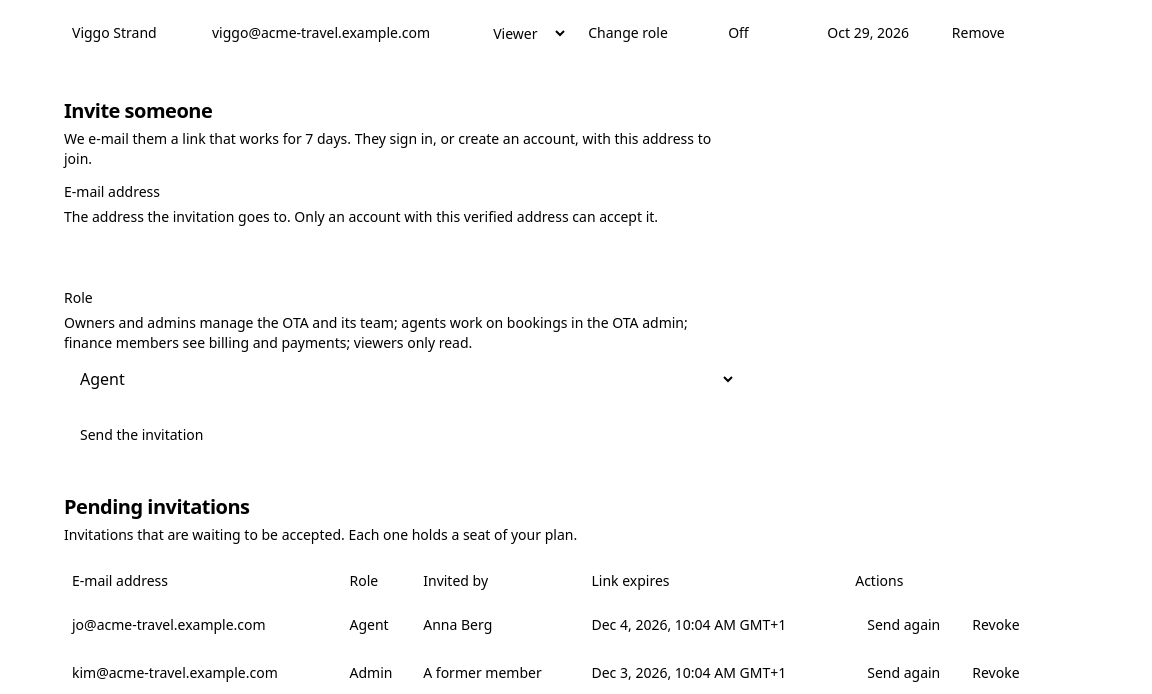
it: /otas/[tenantId]/team › resends an invitation, and explains a revocation of one that is no longer pending
(page scrolled)
Step 1. Click the button "Send again" in the row of "jo@acme-travel.example.com" → (904, 625), box left=855, top=609, right=952, bottom=641
(page scrolled)
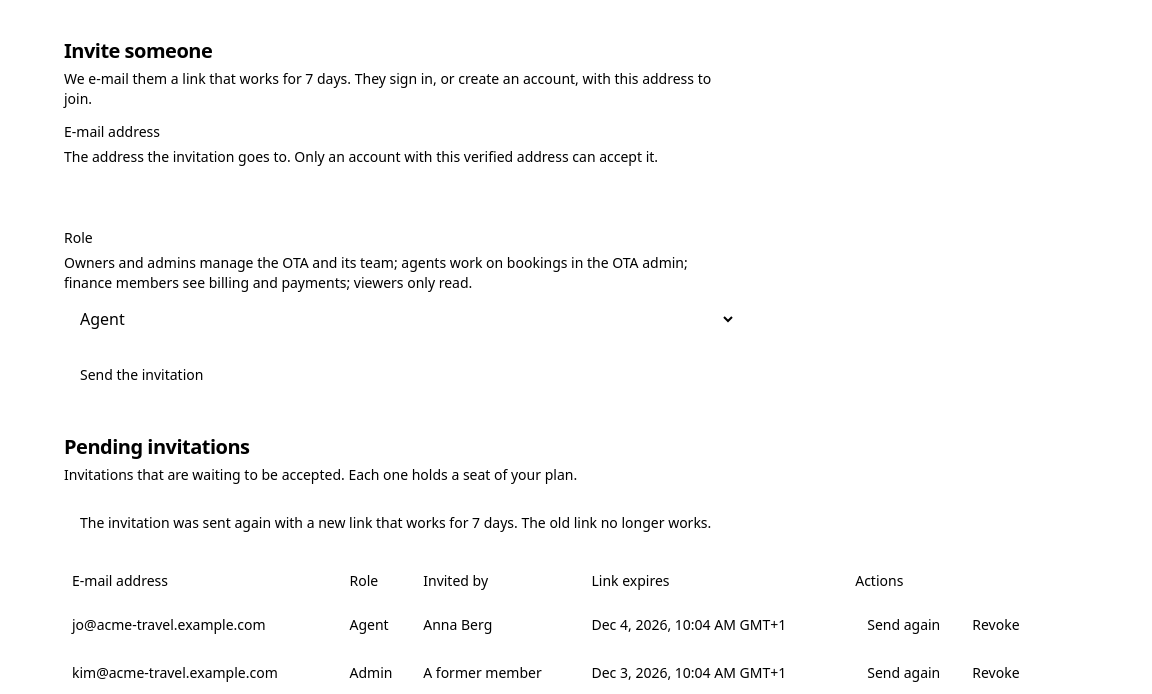
Expected: the text "The invitation was sent again with a new link that works for 7 days. The old link no longer works." is shown, left=80, top=513, right=711, bottom=532
Step 2. Click the button "Revoke" in the row of "jo@acme-travel.example.com" → (996, 625), box left=960, top=609, right=1032, bottom=641
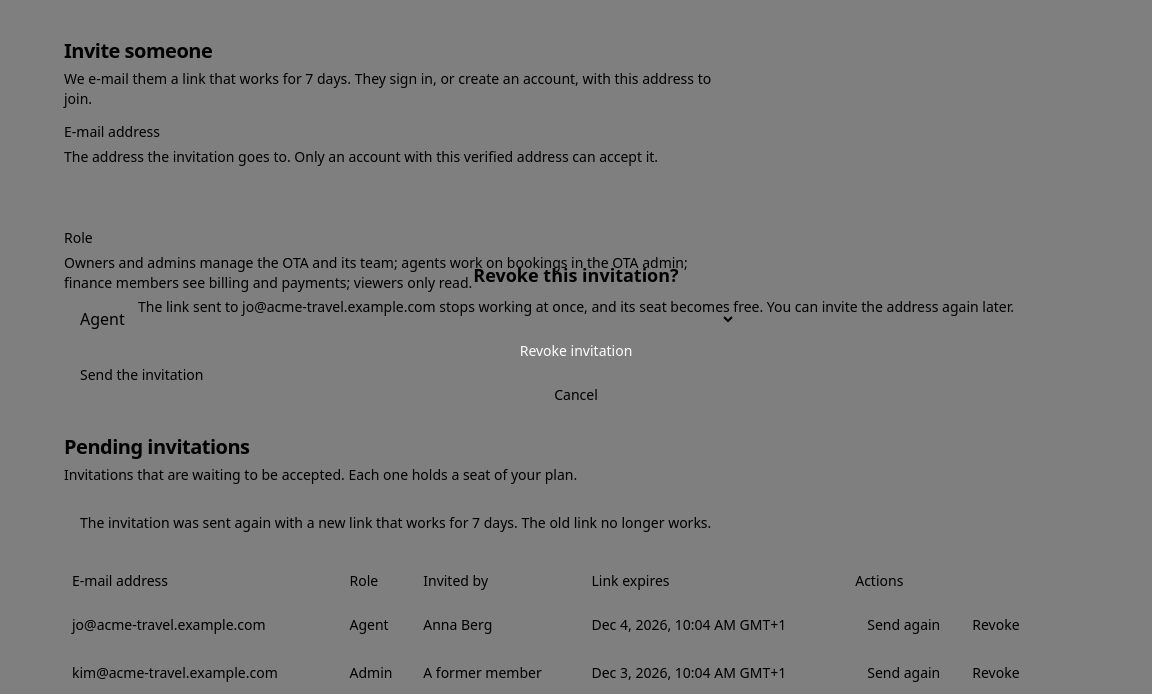
Step 3. Click the button "Revoke invitation" → (576, 351), box left=40, top=333, right=1112, bottom=369
(page scrolled)
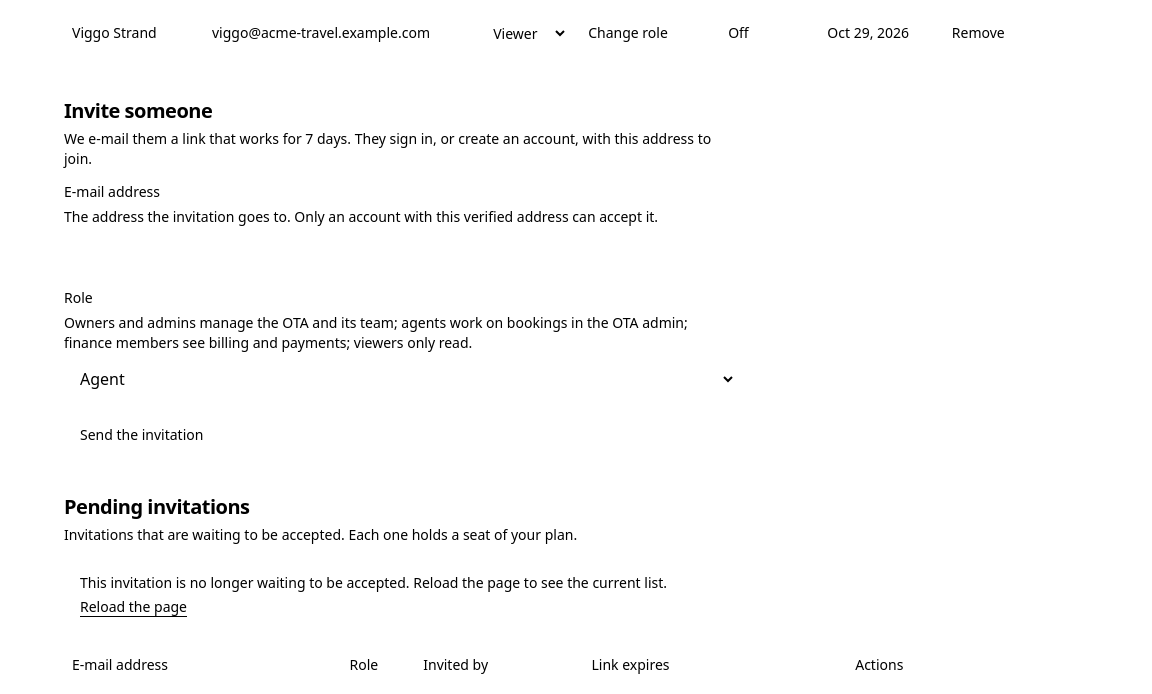
Expected: the text "This invitation is no longer waiting to be accepted. Reload the page to see the current list." is shown, left=80, top=573, right=667, bottom=592
